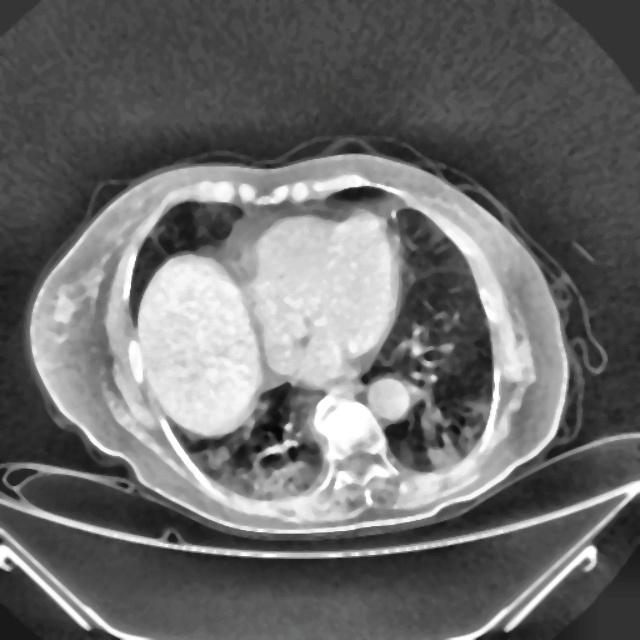covid: (28, 140, 587, 538)
